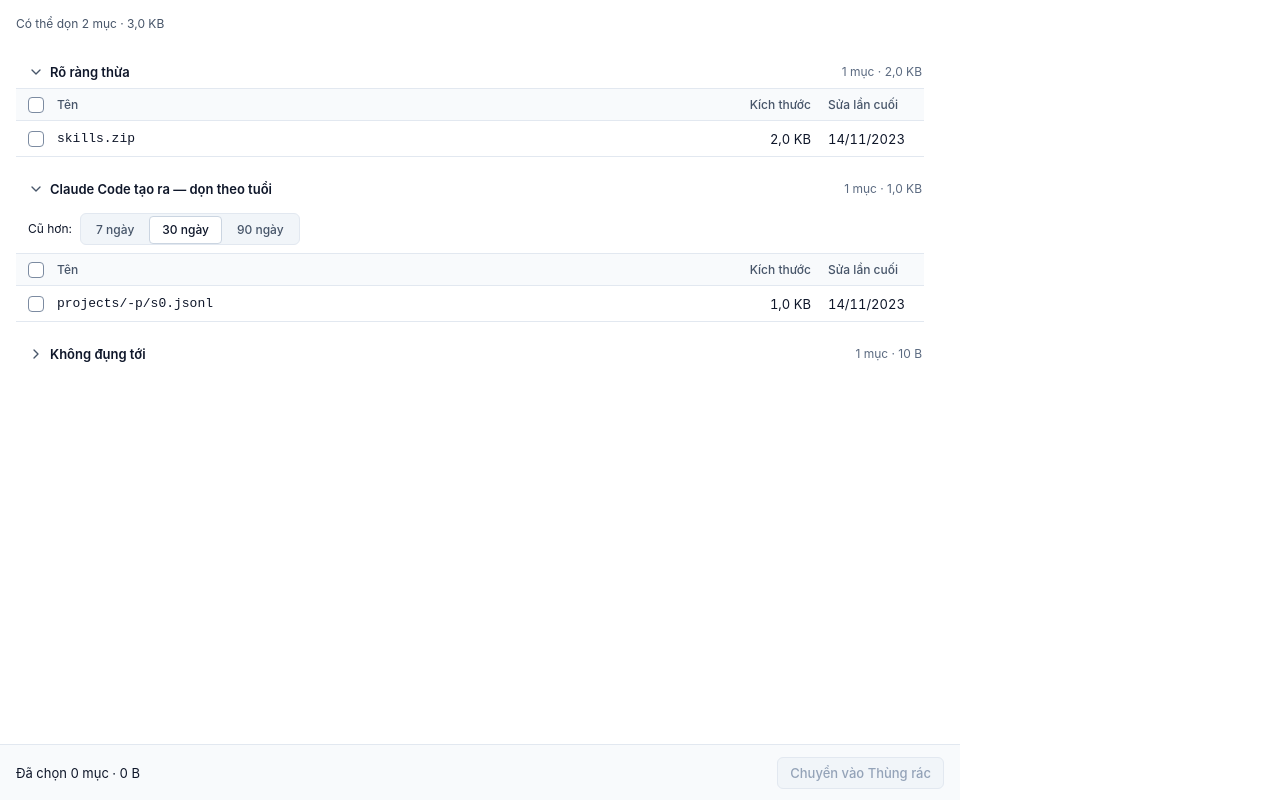
<CleanupPanel /> › UC-005 / AC-3: the footer is always there and the button is disabled until something is ticked
The image size is (1280, 800).
Expected: the button "Chuyển vào Thùng rác" is disabled, [777,756,944,788]
Click the checkbox named "skills.zip": (36, 138) [28,130,44,146]
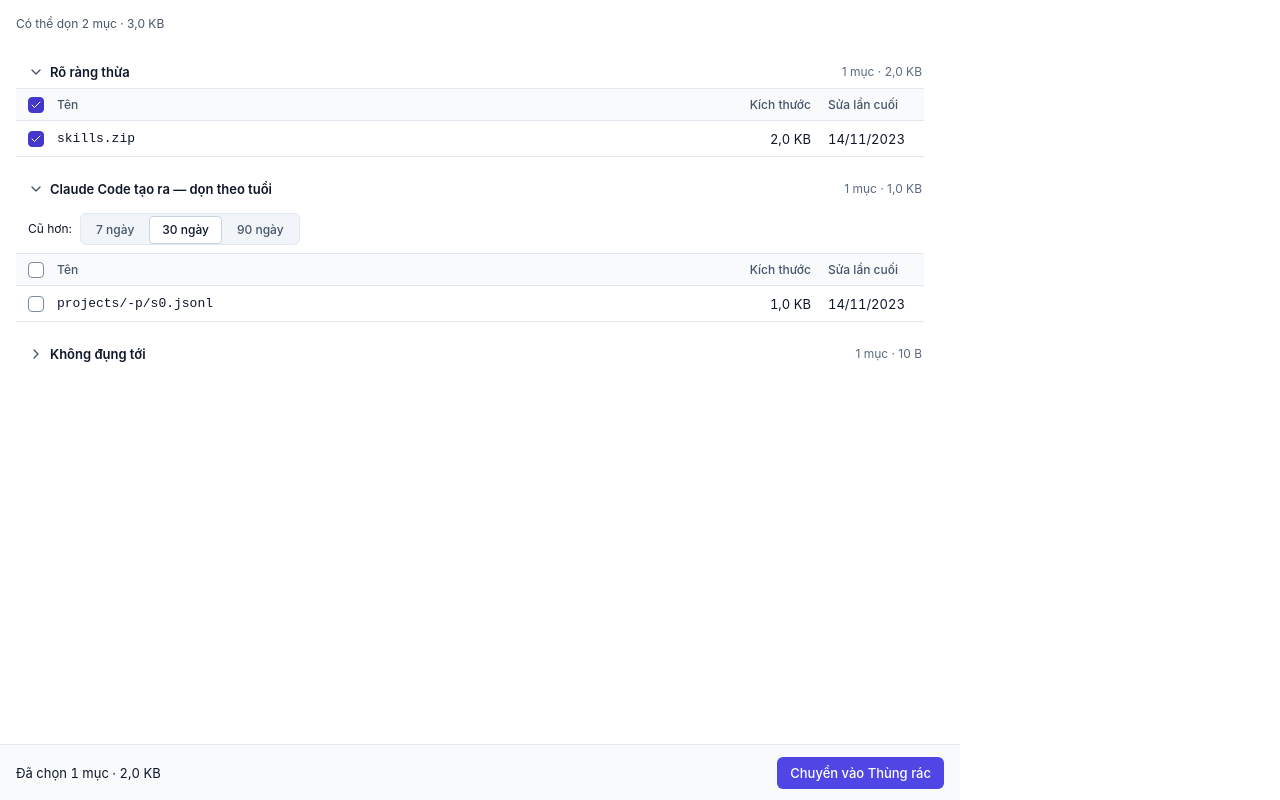
Now the button "Chuyển vào Thùng rác" is enabled, box [777,756,944,788]
